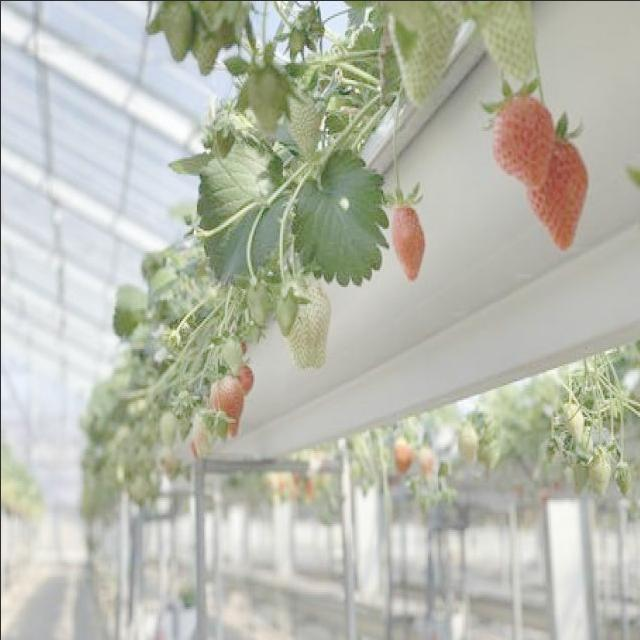ripe: (526, 137, 590, 254), (488, 88, 552, 194), (390, 195, 424, 284), (208, 364, 243, 428), (236, 354, 256, 399), (391, 435, 413, 475), (416, 443, 436, 482)
unripe: (384, 0, 464, 101), (472, 0, 547, 93), (277, 272, 332, 368), (280, 82, 322, 162), (556, 398, 590, 448), (584, 451, 612, 503), (454, 422, 481, 466), (156, 404, 178, 454)
